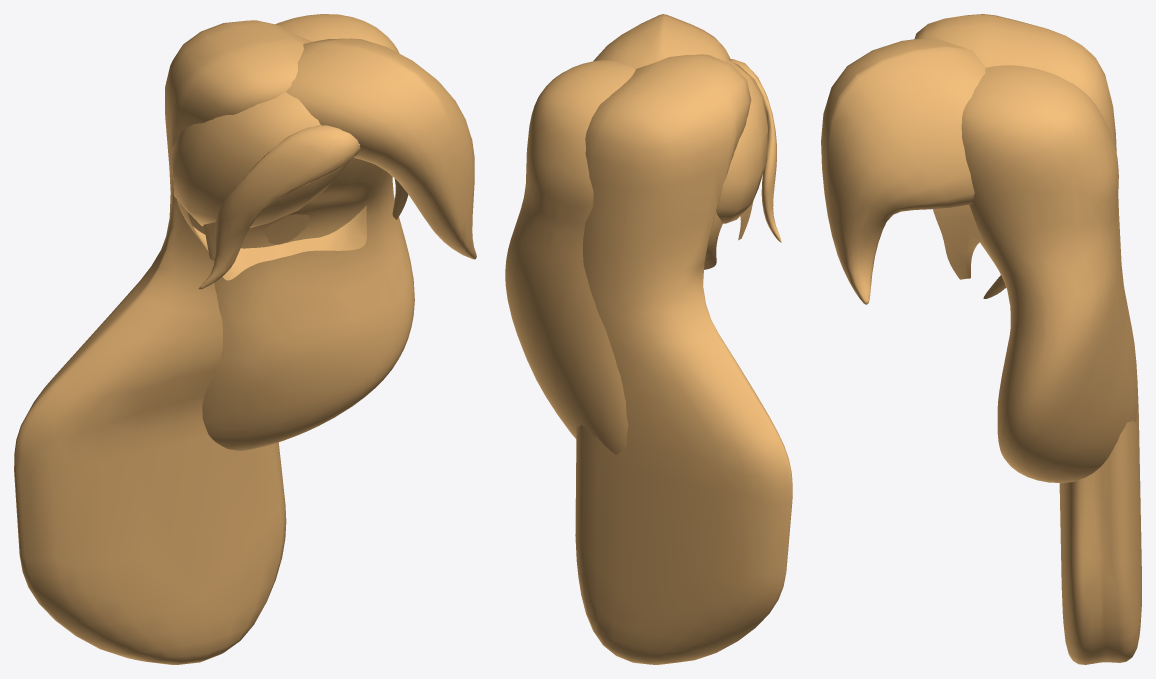
The model's file is hair-001-b8f746f9.glb.
3 renders of one model, left to right at view 1: azimuth 30°, elevation 25°; view 2: azimuth 150°, elevation 25°; view 3: azimuth 270°, elevation 25°, orthographic. The views are drawn at different scales.
Parts seen in each view (by area): view 1: Geo_Female_White_Hair.011; view 2: Geo_Female_White_Hair.011; view 3: Geo_Female_White_Hair.011.
Boxes of the visible parts, left/top/right/bottom form: Geo_Female_White_Hair.011: left=14, top=14, right=476, bottom=664; Geo_Female_White_Hair.011: left=505, top=14, right=792, bottom=664; Geo_Female_White_Hair.011: left=821, top=14, right=1141, bottom=664.
Bounding box in the file's own units: 2.74 × 4.75 × 2.15.
